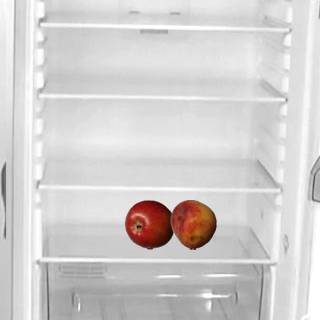Apple Braeburn: (124, 199, 174, 249)
Peach: (168, 199, 218, 249)
